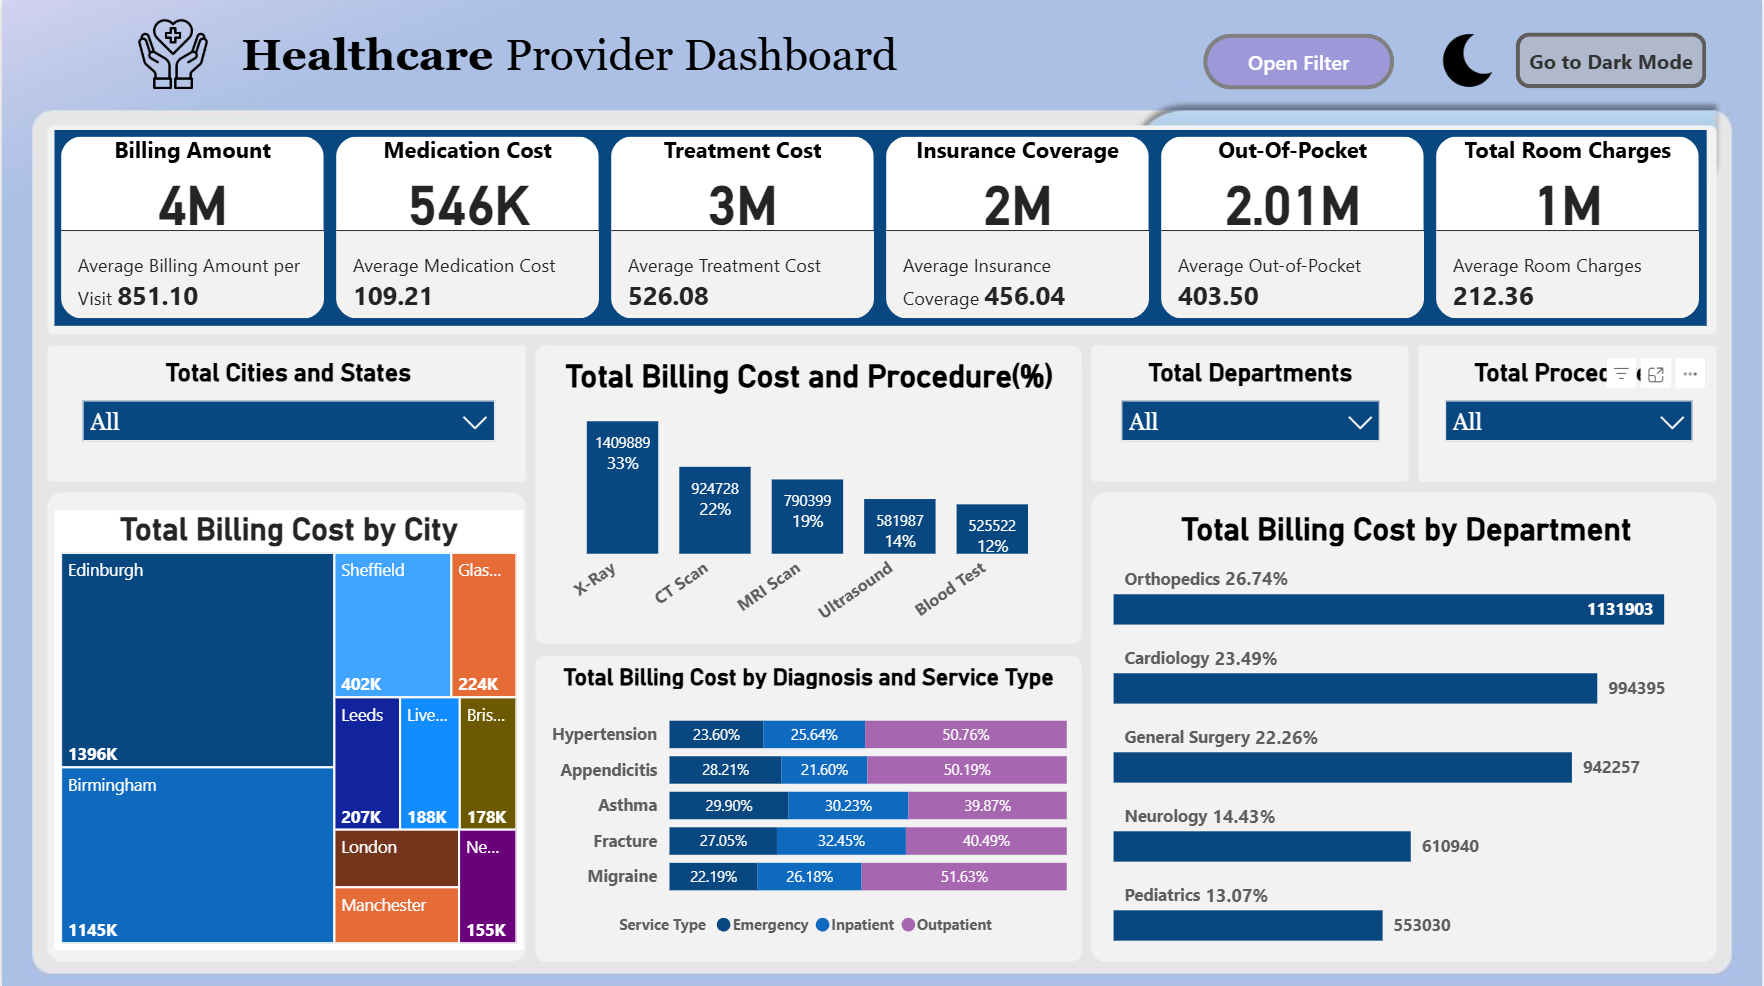

Layout of this report page (visuals, bound fields, positions):
{"tool":"powerbi","page":{"name":"Detail","canvas":[1280,720],"ordinal":1},"visuals":[{"type":"slicer","title":"Total Cities and States","fields":{"Values":["cities.City","cities.State"]},"box":[47.9,260.1,320.2,81],"z":0},{"type":"actionButton","title":"Open","box":[873.6,24.5,138.8,40.5],"z":1000,"group":"g1"},{"type":"cardVisual","fields":{"Data":["DAX Calculation (2).Total Billing Cost","DAX Calculation (2).Total Medication Cost","DAX Calculation (2).Total Treatment Cost","DAX Calculation (2).Total Insurance Coverage","DAX Calculation (2).Out-Of-Pocket","DAX Calculation (2).Total Room Charges"]},"box":[38,94.5,1201.2,142.3],"z":1000},{"type":"columnChart","title":"Total Billing Cost and Procedure(%)","fields":{"Category":["procedures.Procedure"],"Y":["DAX Calculation (2).Total Billing Cost","DAX Calculation (2).% procedure"]},"box":[393.9,260.1,386.5,204.9],"z":2000},{"type":"hundredPercentStackedBarChart","fields":{"Y":["DAX Calculation (2).Total Billing Cost"],"Category":["diagnoses.Diagnosis"],"Series":["visits.Service Type"]},"box":[393.4,482.1,385.9,208.6],"z":3000},{"type":"clusteredBarChart","title":"Total Billing Cost by Department","fields":{"Category":["departments.Department"],"Y":["DAX Calculation (2).Blank Spaces","DAX Calculation (2).Total Billing Cost"]},"box":[803.7,370.6,435.6,320.2],"z":4000},{"type":"slicer","title":"Total Departments","fields":{"Values":["departments.Department"]},"box":[803.7,260.1,208.6,81],"z":5000},{"type":"slicer","title":"Total Procedures","fields":{"Values":["procedures.Procedure"]},"box":[1039.3,260.1,200,82.2],"z":6000},{"type":"image","box":[1039.3,19.6,54,47.9],"z":7000},{"type":"actionButton","box":[1100.6,23.3,138.7,40.5],"z":8000},{"type":"treemap","fields":{"Group":["cities.City"],"Values":["DAX Calculation (2).Total Billing Cost"]},"box":[38,370.6,341.1,320.2],"z":9000},{"type":"group","id":"g1","title":"Slicer Btn","box":[873.6,24.5,138.7,40.5],"z":11000},{"type":"shape","box":[38,9.8,672.4,58.9],"z":12000},{"type":"textbox","box":[169.3,12.3,495.7,52.8],"z":13000},{"type":"image","box":[89.6,7.4,68.7,63.8],"z":14000}]}

Visuals, with their boxes in screenshot pixels (x1, y1, x2, y2), scaled from the page's 1280x720 canvas onto the 1764x986 screenshot:
"Total Cities and States" slicer: bbox(66, 356, 507, 467)
"Open" actionButton: bbox(1204, 34, 1395, 89)
cardVisual - DAX Calculation (2).Total Billing Cost x DAX Calculation (2).Total Medication Cost: bbox(52, 129, 1708, 324)
"Total Billing Cost and Procedure(%)" columnChart: bbox(543, 356, 1075, 637)
hundredPercentStackedBarChart - DAX Calculation (2).Total Billing Cost x diagnoses.Diagnosis: bbox(542, 660, 1074, 946)
"Total Billing Cost by Department" clusteredBarChart: bbox(1108, 508, 1708, 946)
"Total Departments" slicer: bbox(1108, 356, 1395, 467)
"Total Procedures" slicer: bbox(1432, 356, 1708, 469)
image: bbox(1432, 27, 1507, 92)
actionButton: bbox(1517, 32, 1708, 87)
treemap - cities.City x DAX Calculation (2).Total Billing Cost: bbox(52, 508, 522, 946)
"Slicer Btn" group: bbox(1204, 34, 1395, 89)
shape: bbox(52, 13, 979, 94)
textbox: bbox(233, 17, 916, 89)
image: bbox(123, 10, 218, 98)
